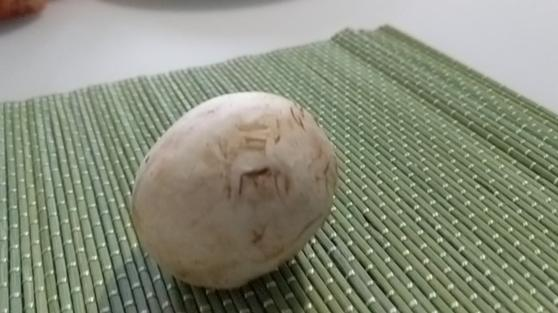champignon: (123, 88, 336, 286)
